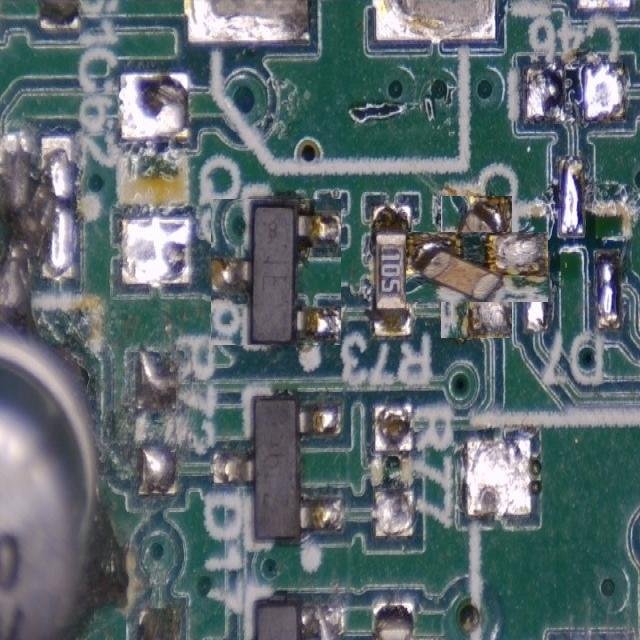Incorrect_installation: (211, 199, 341, 345), (406, 232, 548, 301)
